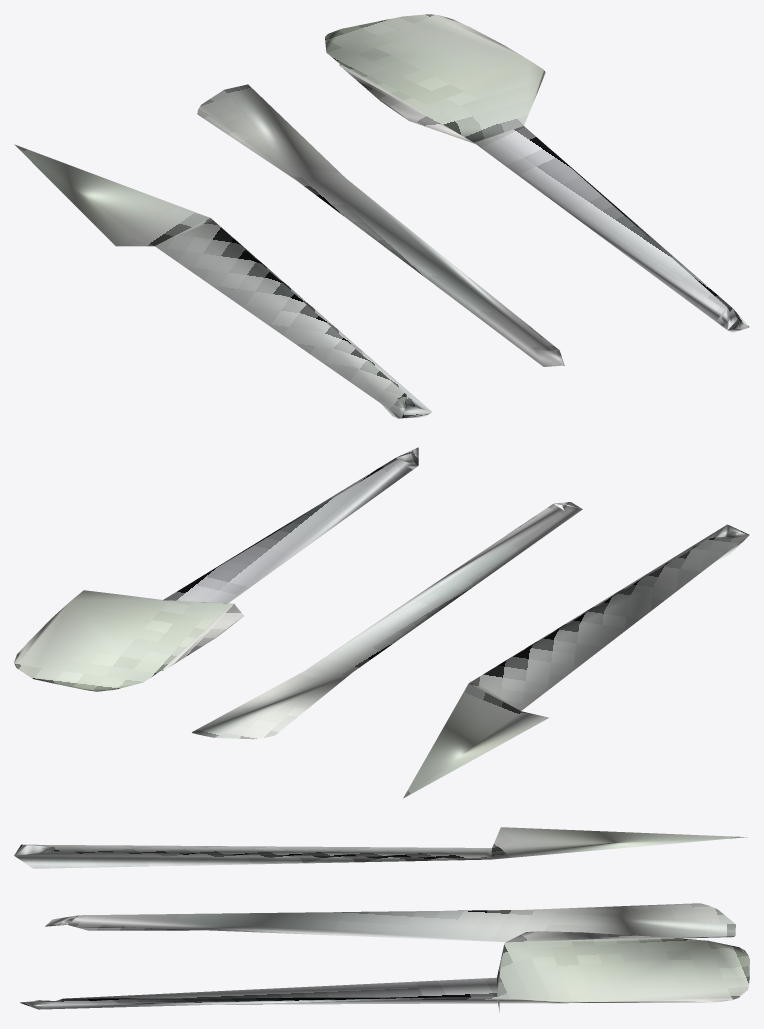
The model's file is Progressive_Rubber_Spatulas_3_count-low.glb.
The picture shows the model from 3 angles, top to bottom: view 1: azimuth 30°, elevation 25°; view 2: azimuth 150°, elevation 25°; view 3: azimuth 270°, elevation 25°; orthographic projection. The views are drawn at different scales.
Visible parts, largest first — view 1: Progressive_Rubber_Spatulas_3_count; view 2: Progressive_Rubber_Spatulas_3_count; view 3: Progressive_Rubber_Spatulas_3_count.
Part boxes in pixels (x1,y1,x2,y2): Progressive_Rubber_Spatulas_3_count: (14,14,749,418); Progressive_Rubber_Spatulas_3_count: (14,447,749,798); Progressive_Rubber_Spatulas_3_count: (14,827,749,1012).
Bounding box in the file's own units: 0.1801 × 0.0204 × 0.259.
Materials: 1 (1 with a texture image).
